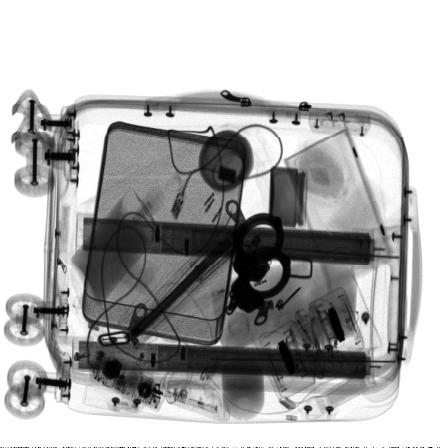HandCuffs: (224, 210, 292, 316)
